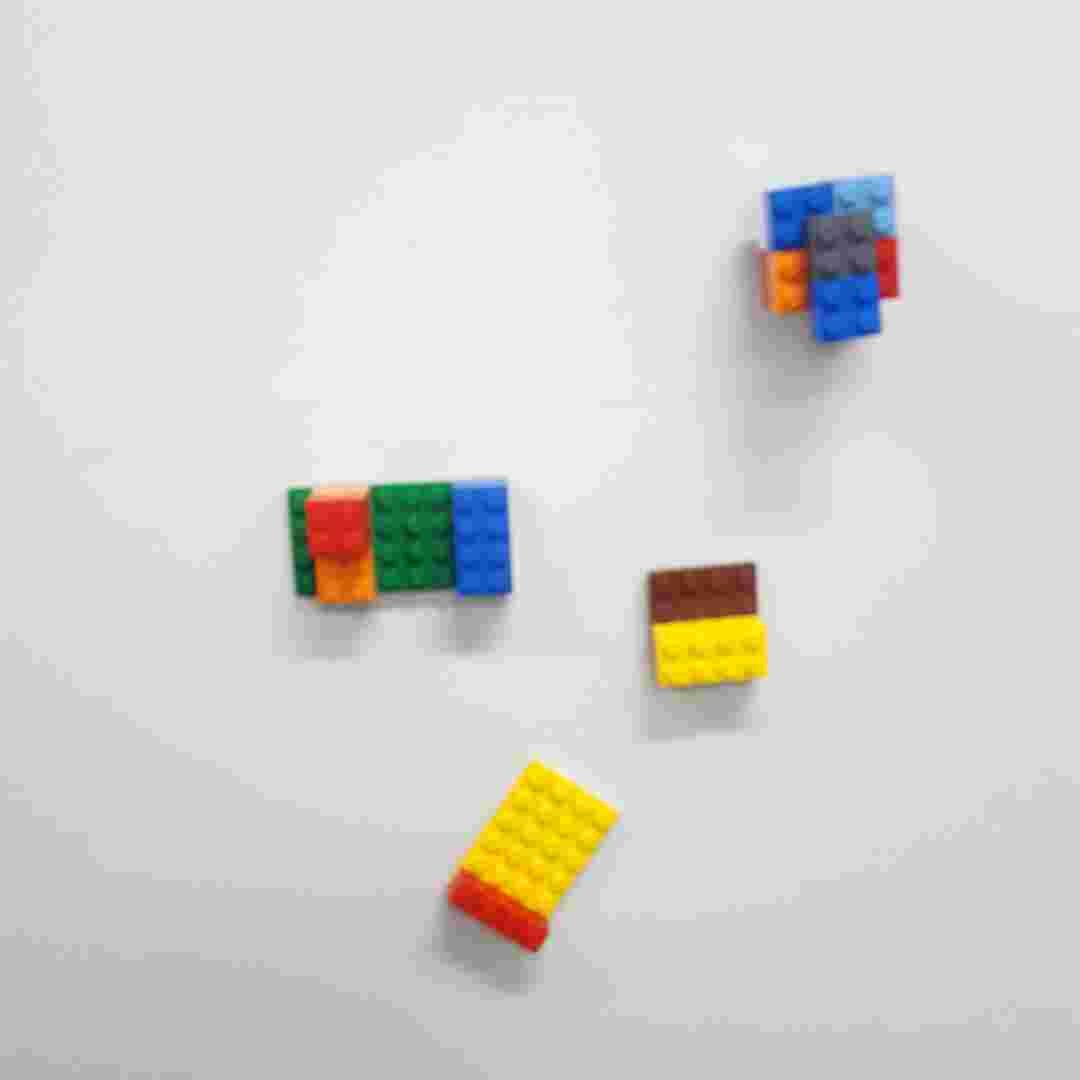LEGO: (438, 753, 632, 951), (284, 477, 519, 605), (746, 173, 909, 345), (639, 560, 777, 688)
